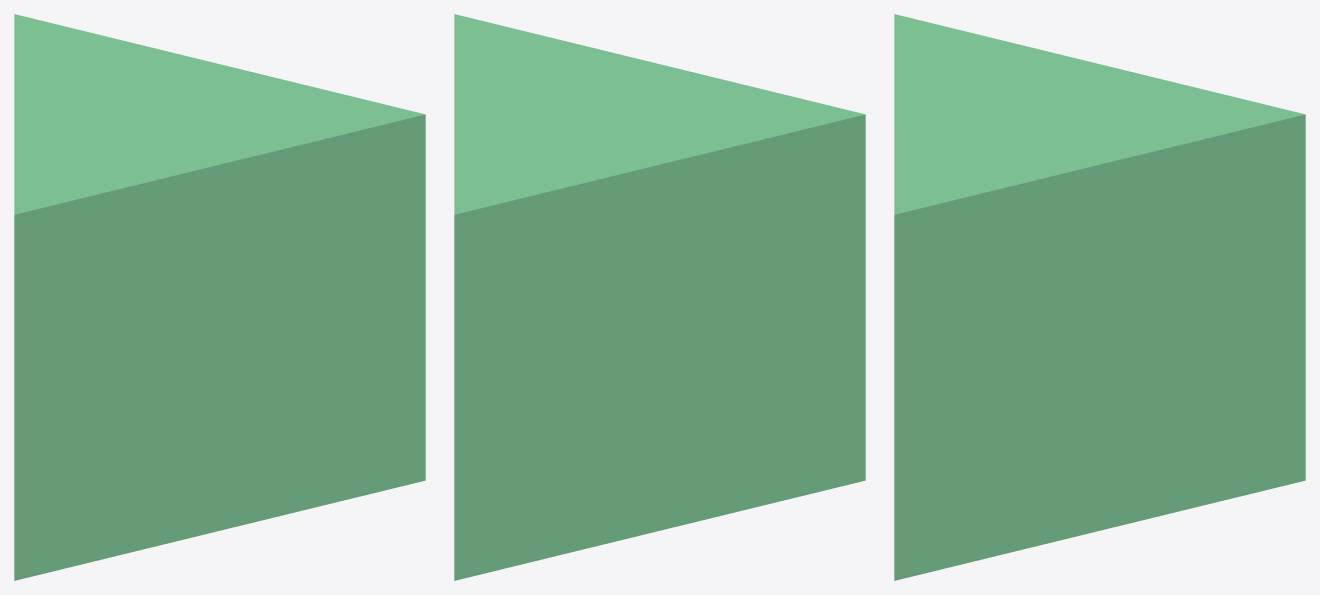
3 views of the same model, side by side, from view 1: azimuth 30°, elevation 25°; view 2: azimuth 150°, elevation 25°; view 3: azimuth 270°, elevation 25° (orthographic).
Parts seen in each view (by area): view 1: world; view 2: world; view 3: world.
Part boxes in pixels (x1=…): world: x1=14, y1=14, x2=425, y2=580; world: x1=454, y1=14, x2=865, y2=580; world: x1=894, y1=14, x2=1305, y2=580.
Size of the model in its own units: 1 by 0.85 by 0.866.
